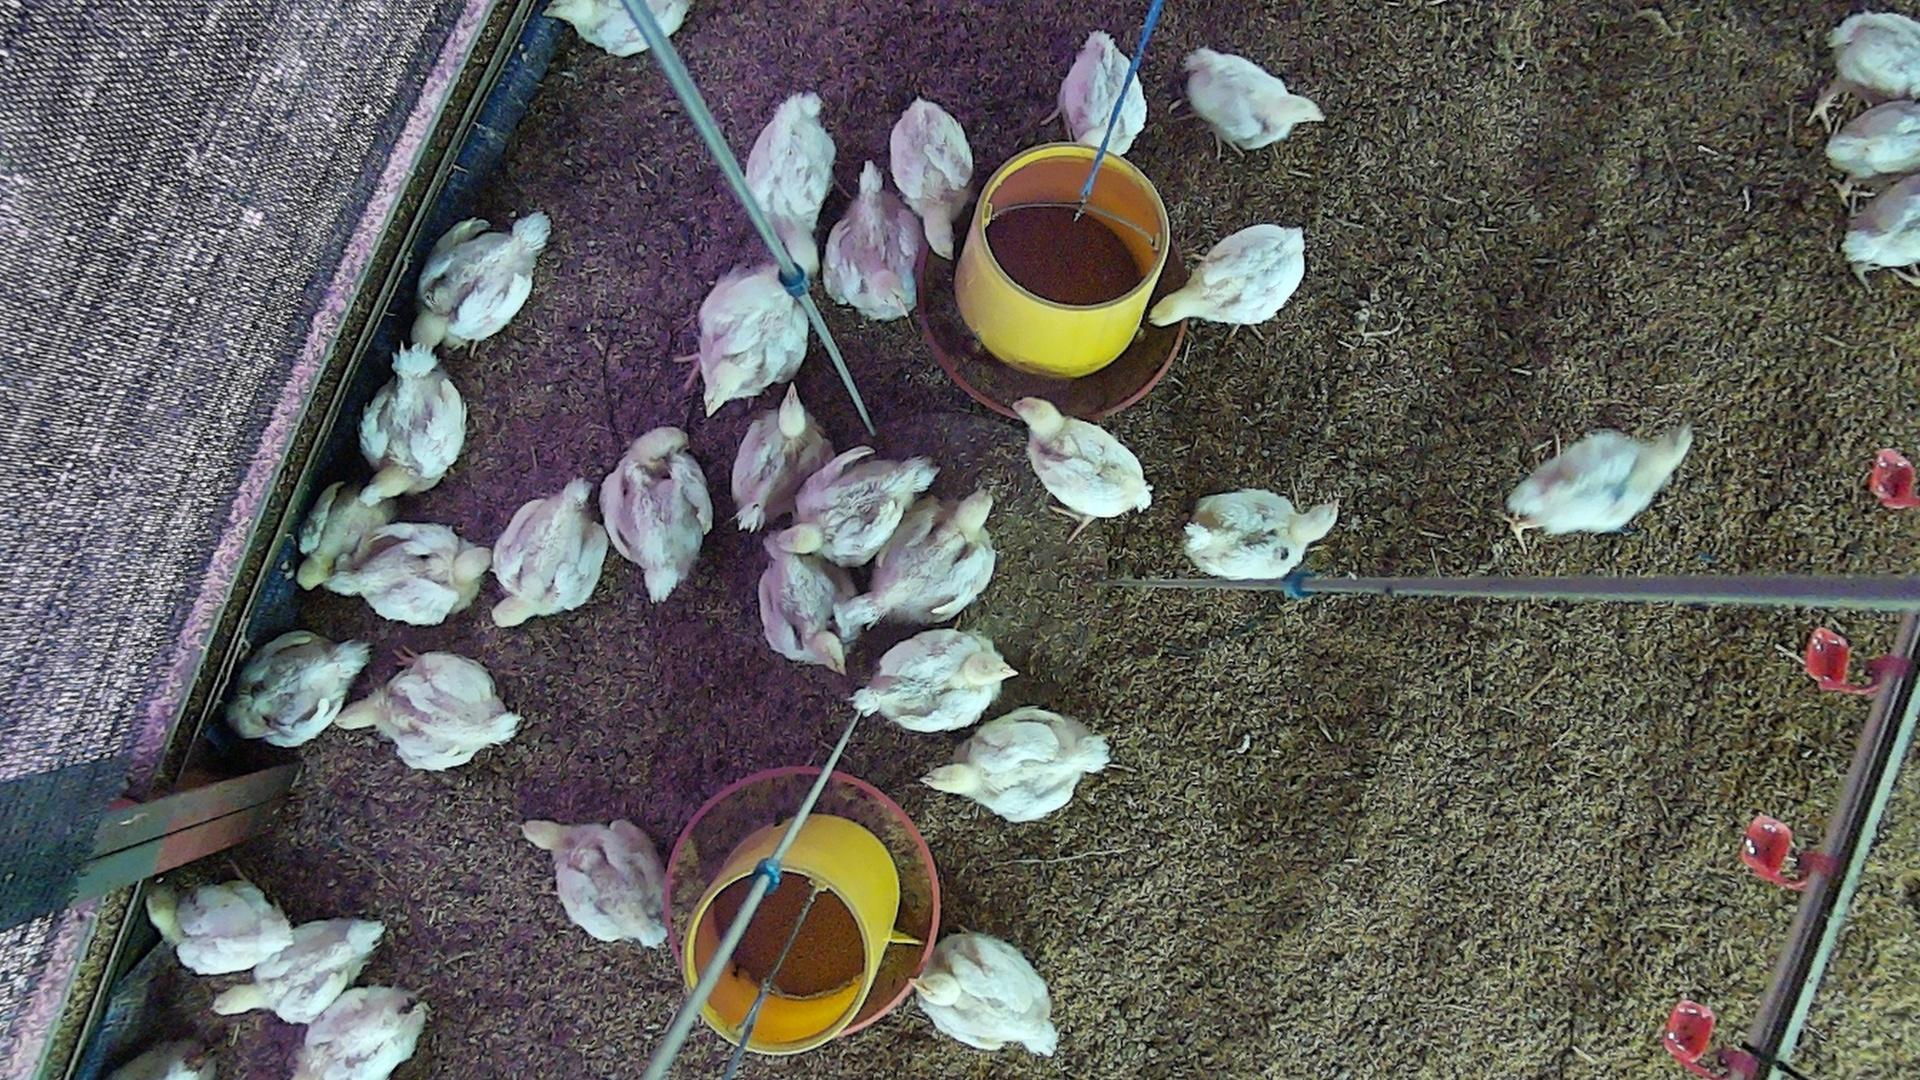ayam_broiler: (836, 487, 996, 633), (923, 707, 1112, 822), (336, 651, 518, 770), (1017, 397, 1154, 545), (600, 426, 712, 601), (1510, 425, 1689, 531), (905, 931, 1059, 1055), (773, 448, 938, 563), (521, 819, 671, 944), (413, 212, 551, 348), (220, 916, 386, 1025), (742, 92, 835, 286), (1166, 47, 1325, 158), (489, 479, 607, 628), (323, 522, 492, 625), (696, 262, 810, 413), (852, 628, 1014, 732), (228, 632, 369, 746), (359, 345, 467, 495), (1150, 224, 1305, 324), (824, 164, 922, 319), (732, 382, 833, 529), (1184, 488, 1336, 580), (149, 881, 295, 972), (299, 468, 409, 588), (890, 98, 973, 255), (295, 986, 429, 1080), (758, 538, 847, 670), (1059, 30, 1146, 154), (1829, 12, 1920, 96), (1825, 100, 1920, 181), (1842, 175, 1920, 269)
